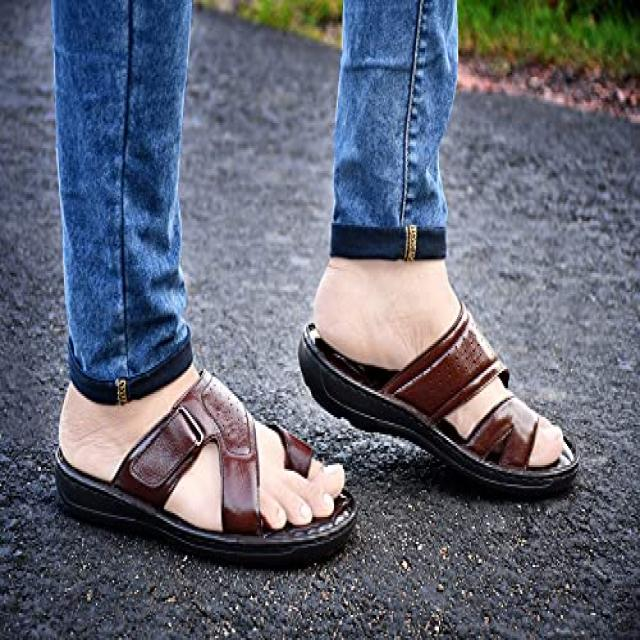Sandals: (58, 312, 357, 568), (299, 237, 579, 495)
